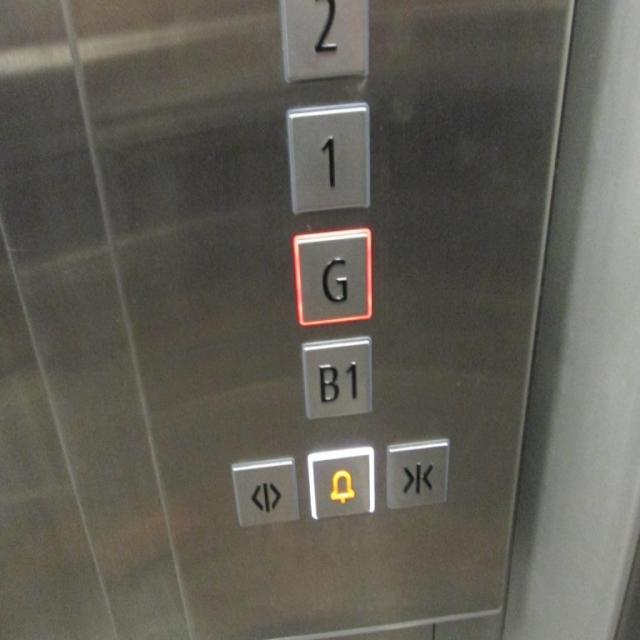1: (282, 98, 372, 216)
B1: (298, 332, 374, 422)
G: (289, 222, 373, 328)
alarm: (304, 442, 377, 522)
close: (382, 432, 451, 514)
open: (228, 452, 302, 530)
